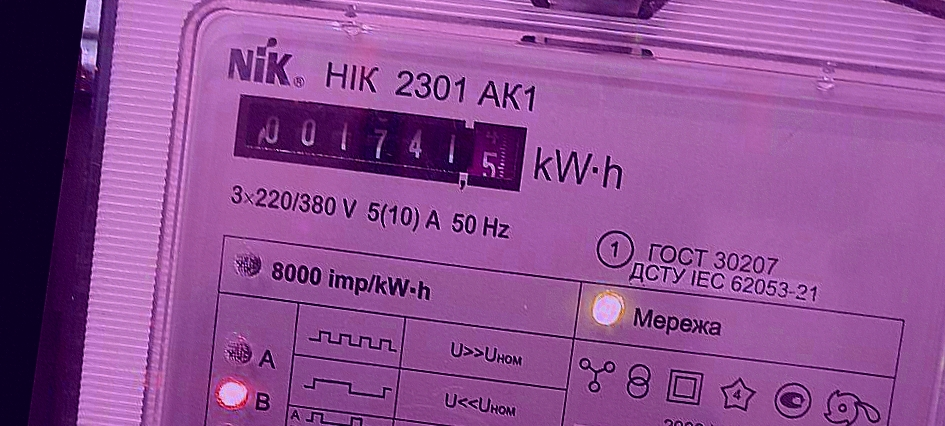0: (297, 113, 320, 149), (261, 111, 284, 146)
1: (332, 116, 354, 154), (442, 130, 461, 167)
4: (404, 124, 429, 161), (483, 126, 501, 146)
5: (477, 146, 500, 179)
7: (368, 124, 389, 161)
screen: (225, 81, 536, 203)
